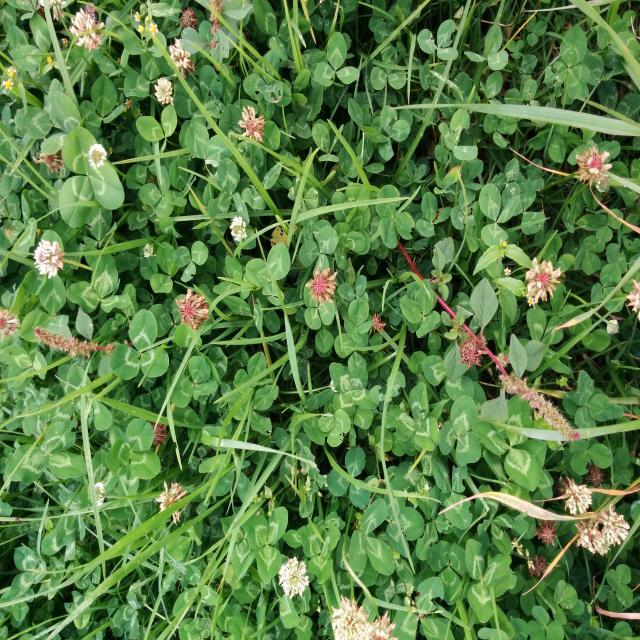Four Leaf Clover: (329, 362, 377, 422)
